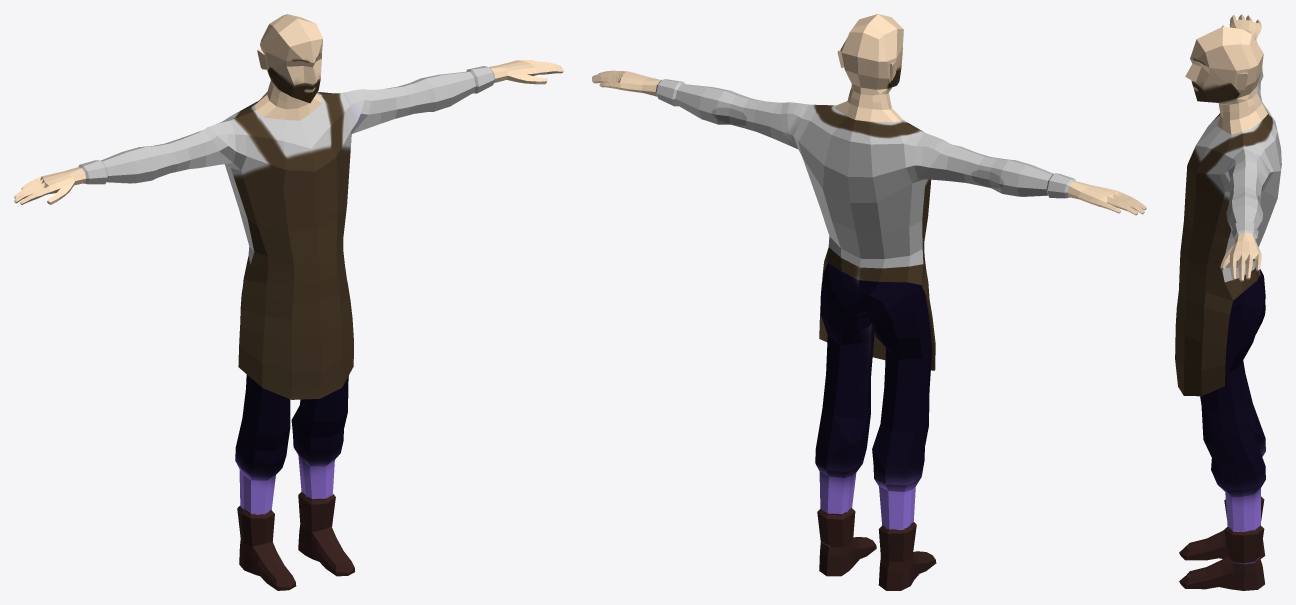
File: Shopkeeper.fbx
3 views of the same model, side by side, from view 1: azimuth 30°, elevation 25°; view 2: azimuth 150°, elevation 25°; view 3: azimuth 270°, elevation 25° (orthographic).
Visible parts, largest first — view 1: Body; view 2: Body; view 3: Body.
Boxes of the visible parts, left/top/right/bottom form: Body: left=14, top=14, right=563, bottom=590; Body: left=592, top=14, right=1146, bottom=590; Body: left=1175, top=14, right=1281, bottom=590.
Bounding box in the file's own units: 189 × 181 × 32.27.
Materials: 1 (1 with a texture image).
